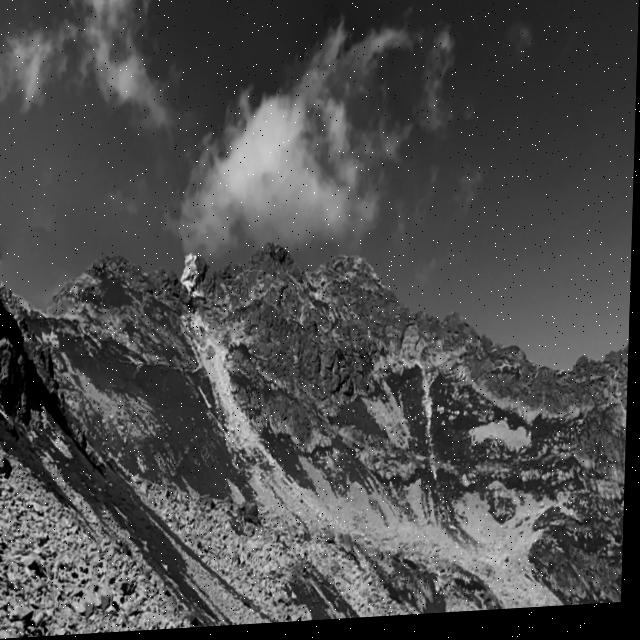Swinica: (178, 120, 486, 397)
